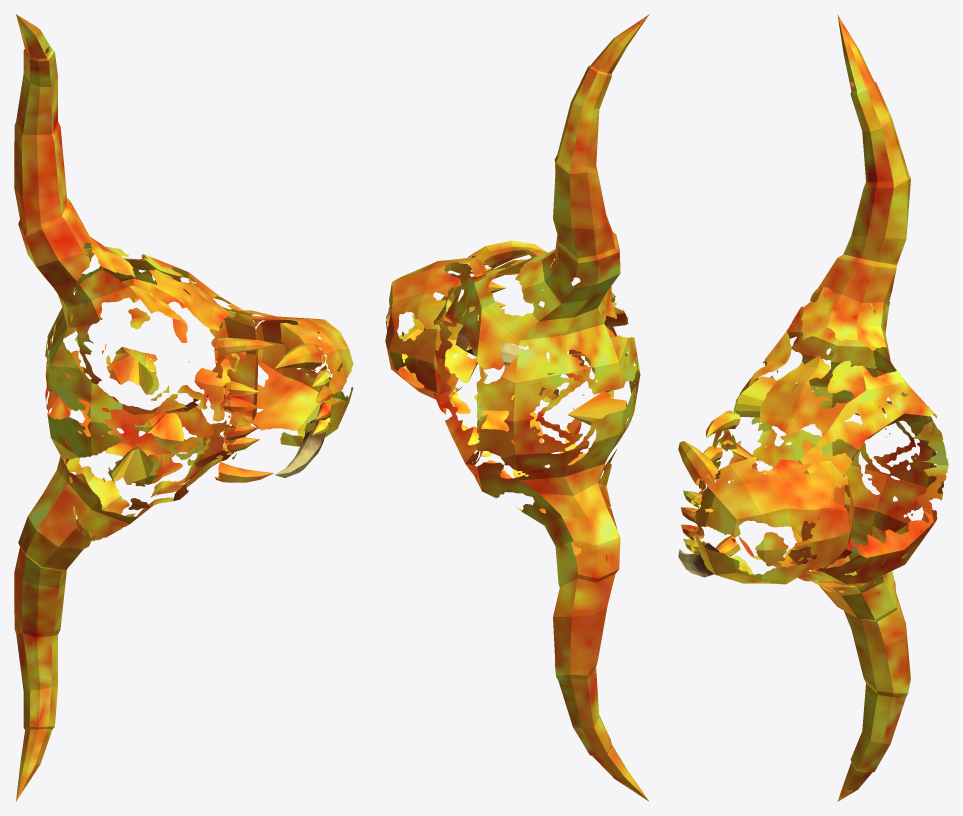
The model's file is wraithskull.obj.
The picture shows the model from 3 angles, left to right: view 1: azimuth 30°, elevation 25°; view 2: azimuth 150°, elevation 25°; view 3: azimuth 270°, elevation 25°; orthographic projection.
Parts seen in each view (by area): view 1: Base, Mouth; view 2: Base, Mouth; view 3: Base, Mouth.
Part boxes in pixels (left/top/right/bottom): Base: left=14, top=14, right=273, bottom=801; Mouth: left=214, top=310, right=353, bottom=477; Base: left=423, top=14, right=649, bottom=801; Mouth: left=385, top=240, right=548, bottom=399; Base: left=698, top=14, right=948, bottom=801; Mouth: left=678, top=441, right=854, bottom=584.
Bounding box in the file's own units: 0.4221 × 1.09 × 0.3384.
